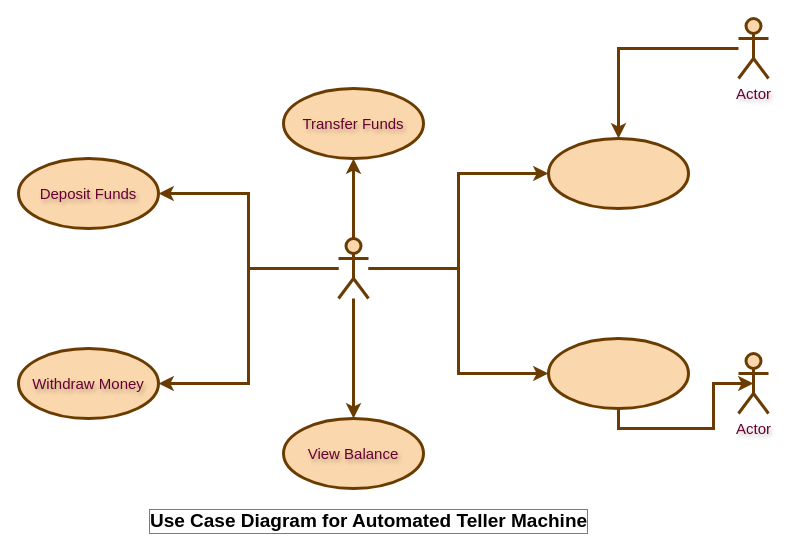
Image size: 788x552. Some labels were removed from this diagram. The box of each missing label's shape, as (x1, y1, x2, y2) in pixels:
Change PIN: (546, 136, 690, 210)
Customer: (336, 236, 370, 300)
Make Payment: (546, 336, 690, 410)
